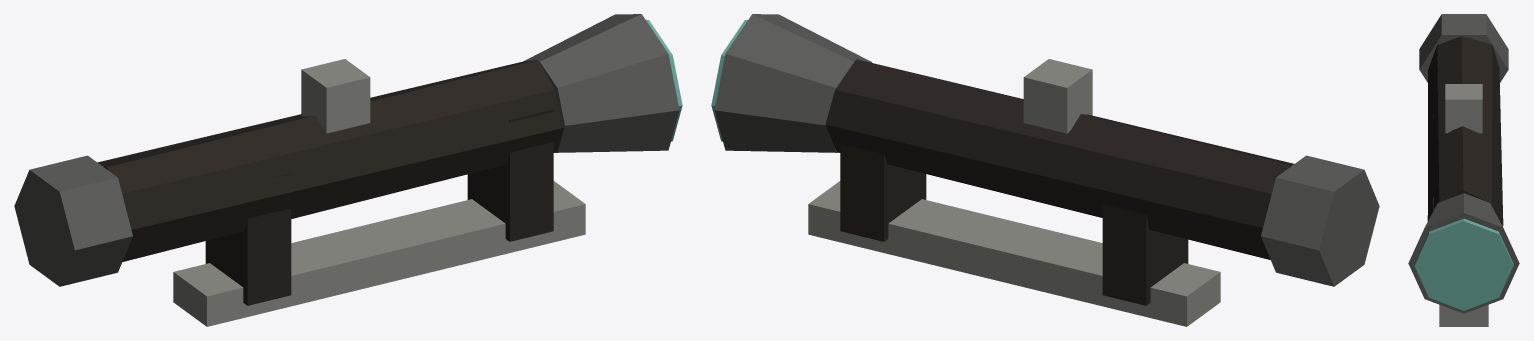
The model's file is wext_scope.glb.
The picture shows the model from 3 angles, left to right: view 1: azimuth 30°, elevation 25°; view 2: azimuth 150°, elevation 25°; view 3: azimuth 270°, elevation 25°; orthographic projection. The views are drawn at different scales.
Parts seen in each view (by area): view 1: wext_scope; view 2: wext_scope; view 3: wext_scope.
Boxes of the visible parts, bbox=[...] form: wext_scope: bbox=[14, 14, 682, 326]; wext_scope: bbox=[711, 14, 1379, 326]; wext_scope: bbox=[1408, 14, 1519, 326].
Bounding box in the file's own units: 0.415 × 0.135 × 0.09.
